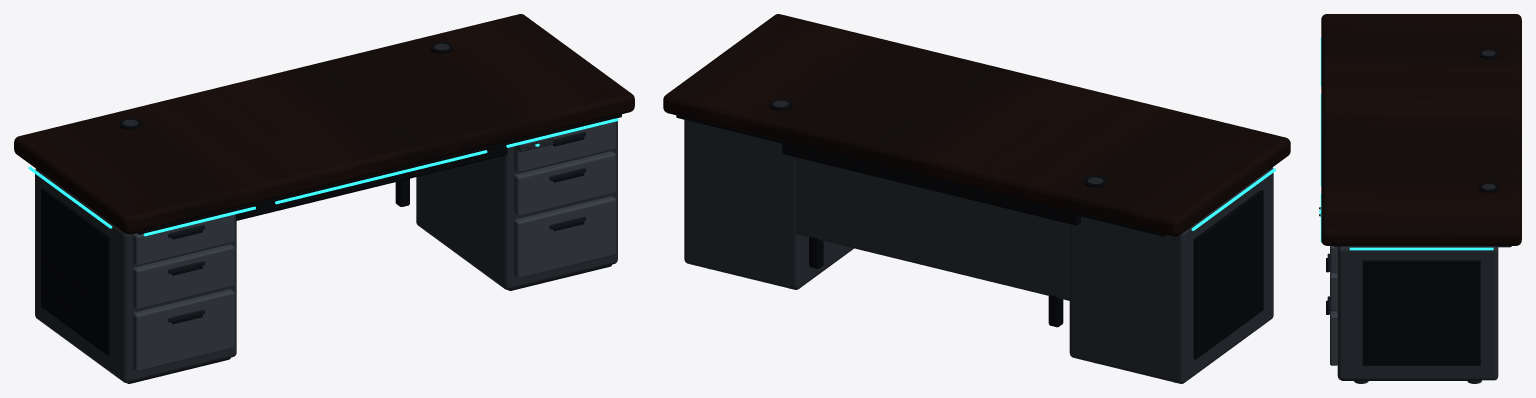
The model's file is desk.glb.
3 renders of one model, left to right at view 1: azimuth 30°, elevation 25°; view 2: azimuth 150°, elevation 25°; view 3: azimuth 270°, elevation 25°, orthographic. The views are drawn at different scales.
Visible parts, largest first — view 1: Desk_Top_Walnut, Desk_RightPedestal_Body, Desk_LeftPedestal_SideInset_Outer, Desk_LeftPedestal_Body, Drawer_Left_Bottom, Drawer_Right_Bottom, Drawer_Left_Middle, Drawer_Right_Middle, Drawer_Left_Top, Drawer_Right_Top, Desk_Frame_FrontRail, Desk_FrontEdge_Trim (+1 smaller); view 2: Desk_Top_Walnut, Desk_LeftPedestal_Body, Desk_MvPanel, Desk_RightPedestal_Body, Desk_LeftPedestal_SideInset_Outer, Desk_Frame_BackRail, Desk_BackEdge_Trim; view 3: Desk_Top_Walnut, Desk_RightPedestal_SideInset_Outer, Desk_RightPedestal_Body, LED_RightSide, Drawer_Right_Bottom, Drawer_Right_Middle, Drawer_Right_Top, Desk_Top_Underplate, LED_Front_Center.
Boxes of the visible parts, x1,y1,x2,y2 form: Desk_Top_Walnut: (14, 14, 634, 234); Desk_RightPedestal_Body: (416, 121, 617, 289); Desk_LeftPedestal_SideInset_Outer: (41, 188, 109, 355); Desk_LeftPedestal_Body: (35, 169, 236, 382); Drawer_Left_Bottom: (132, 289, 234, 371); Drawer_Right_Bottom: (514, 196, 615, 278); Drawer_Left_Middle: (132, 244, 234, 309); Drawer_Right_Middle: (514, 151, 615, 216); Drawer_Left_Top: (132, 214, 234, 265); Drawer_Right_Top: (514, 121, 615, 172); Desk_Frame_FrontRail: (236, 145, 507, 220); Desk_FrontEdge_Trim: (137, 113, 621, 234); Desk_Top_Walnut: (663, 14, 1290, 236); Desk_LeftPedestal_Body: (1069, 167, 1273, 383); Desk_MvPanel: (796, 157, 1070, 300); Desk_RightPedestal_Body: (684, 120, 853, 289); Desk_LeftPedestal_SideInset_Outer: (1193, 189, 1263, 359); Desk_Frame_BackRail: (782, 143, 1080, 225); Desk_BackEdge_Trim: (676, 115, 1166, 236); Desk_Top_Walnut: (1321, 14, 1521, 245); Desk_RightPedestal_SideInset_Outer: (1362, 260, 1480, 365); Desk_RightPedestal_Body: (1337, 246, 1498, 380); LED_RightSide: (1349, 247, 1493, 250); Drawer_Right_Bottom: (1330, 310, 1337, 365); Drawer_Right_Middle: (1330, 272, 1337, 311); Drawer_Right_Top: (1330, 246, 1337, 272); Desk_Top_Underplate: (1334, 246, 1511, 247); LED_Front_Center: (1320, 94, 1321, 185).
Bounding box in the file's own units: 2.2 × 0.759 × 0.859.
Materials: 7 (2 with a texture image).
